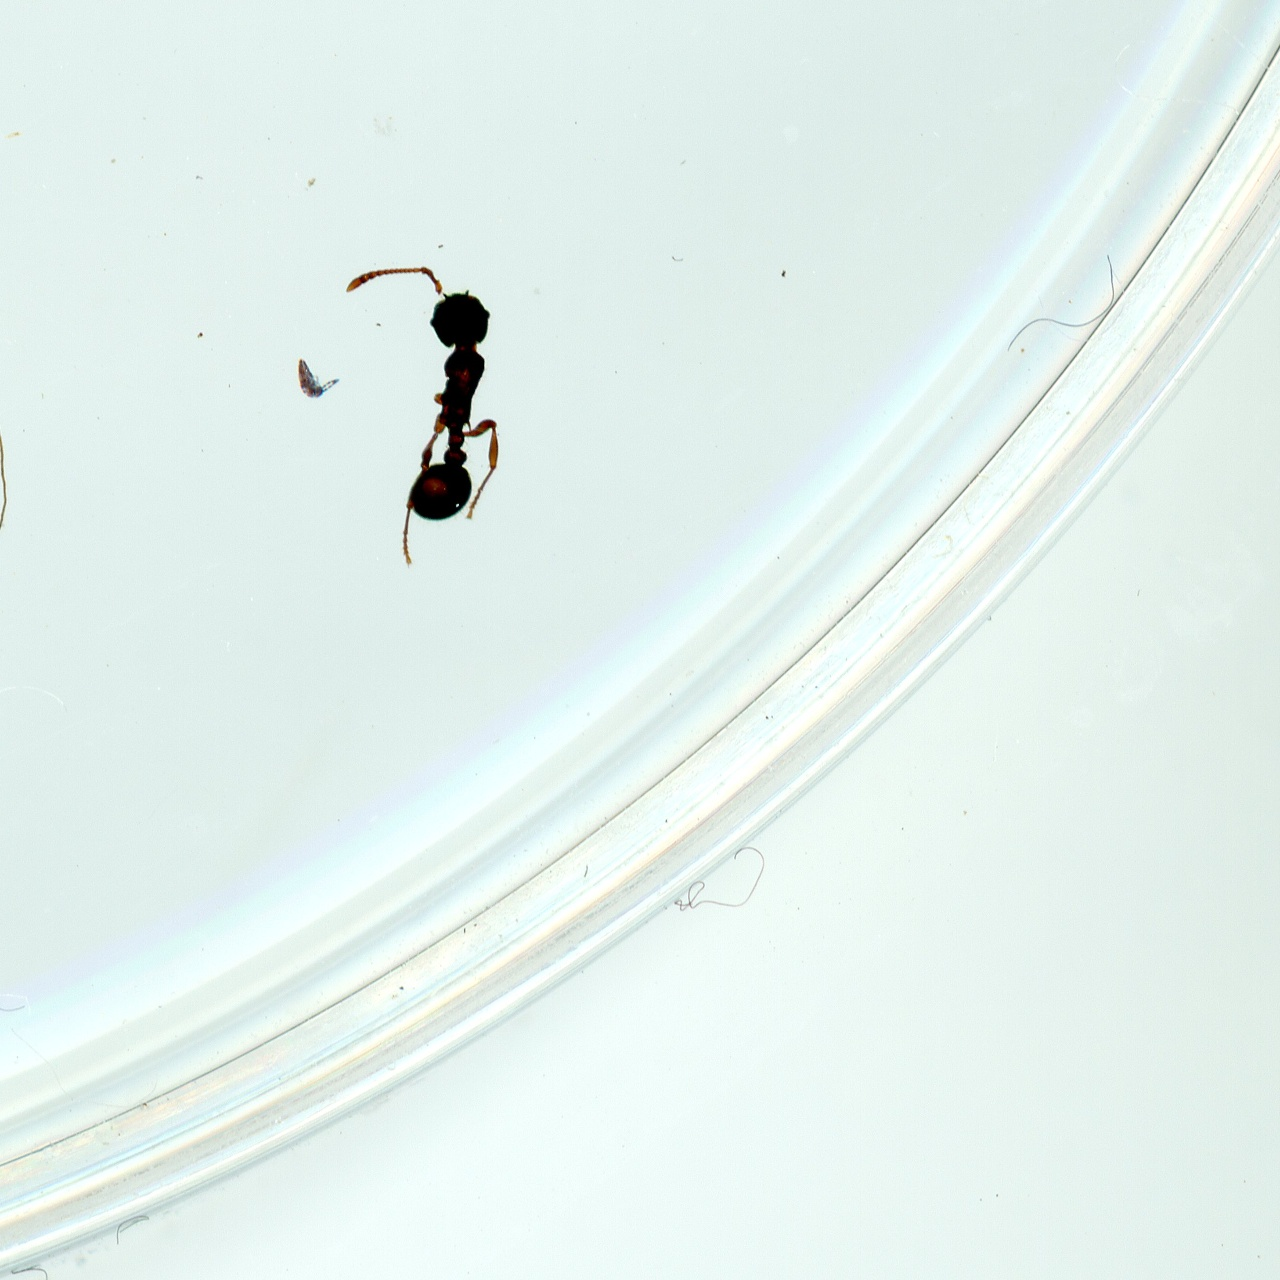arthropod: (342, 240, 514, 571), (293, 351, 344, 404)
